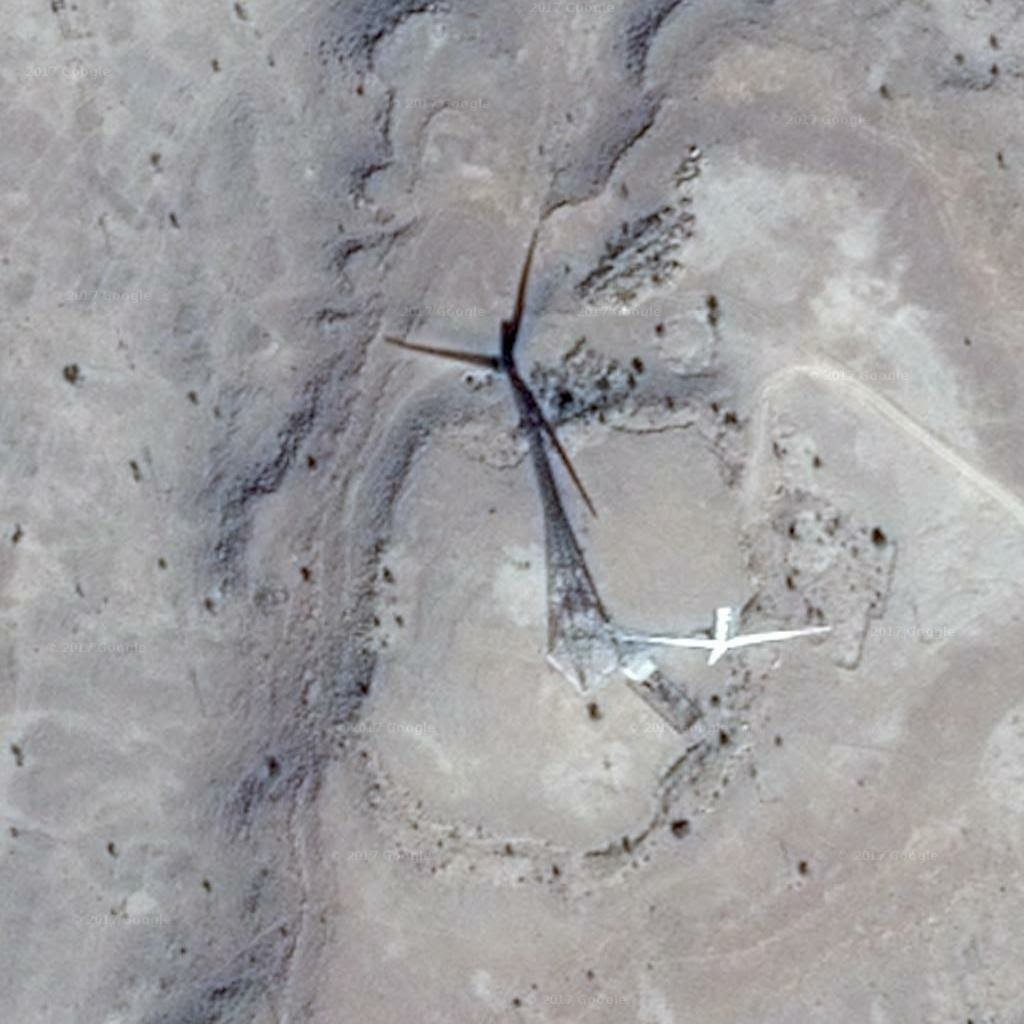Windmill: (379, 224, 636, 640)
